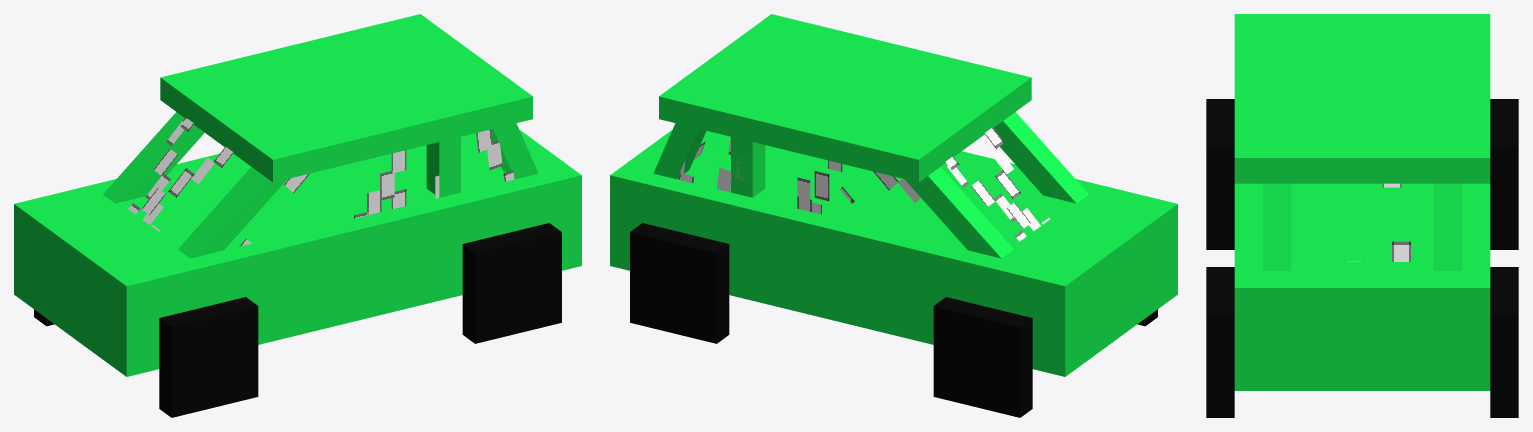
Rendered from lamborghini.gltf.
3 views of the same model, side by side, from view 1: azimuth 30°, elevation 25°; view 2: azimuth 150°, elevation 25°; view 3: azimuth 270°, elevation 25° (orthographic). The views are drawn at different scales.
Visible parts, largest first — view 1: corpo, parte de cima, roda (×2), barra frente (×2), vidro (×3), barra suporte, barra tras; view 2: corpo, parte de cima, roda (×2), barra frente (×2), vidro (×3), barra suporte, barra tras, vidro inclinado; view 3: corpo, parte de cima, roda (×4), barra tras (×2), vidro.
Part boxes in pixels (x1,y1,x2,y2): corpo: [14, 130, 581, 376]; parte de cima: [160, 14, 532, 182]; roda (×2): [159, 223, 561, 417]; barra frente (×2): [103, 112, 287, 258]; vidro (×3): [128, 117, 514, 231]; barra suporte: [426, 137, 460, 197]; barra tras: [491, 123, 538, 179]; corpo: [610, 130, 1177, 376]; parte de cima: [659, 14, 1031, 182]; roda (×2): [630, 223, 1032, 417]; barra frente (×2): [904, 112, 1088, 258]; vidro (×3): [678, 127, 1049, 241]; barra suporte: [731, 137, 765, 197]; barra tras: [653, 123, 706, 179]; vidro inclinado: [840, 171, 920, 203]; corpo: [1234, 183, 1490, 390]; parte de cima: [1234, 14, 1490, 183]; roda (×4): [1206, 99, 1518, 417]; barra tras (×2): [1263, 183, 1461, 270]; vidro: [1344, 183, 1410, 261].
Size of the model in its own units: 1.31 by 0.61 by 0.6875.
1 material, 1 textured.
